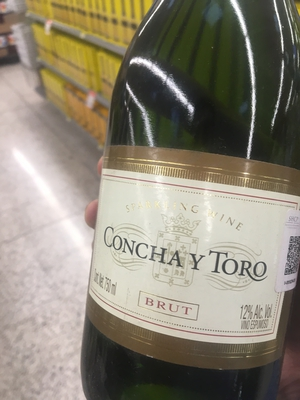brut: (77, 27, 300, 383)
